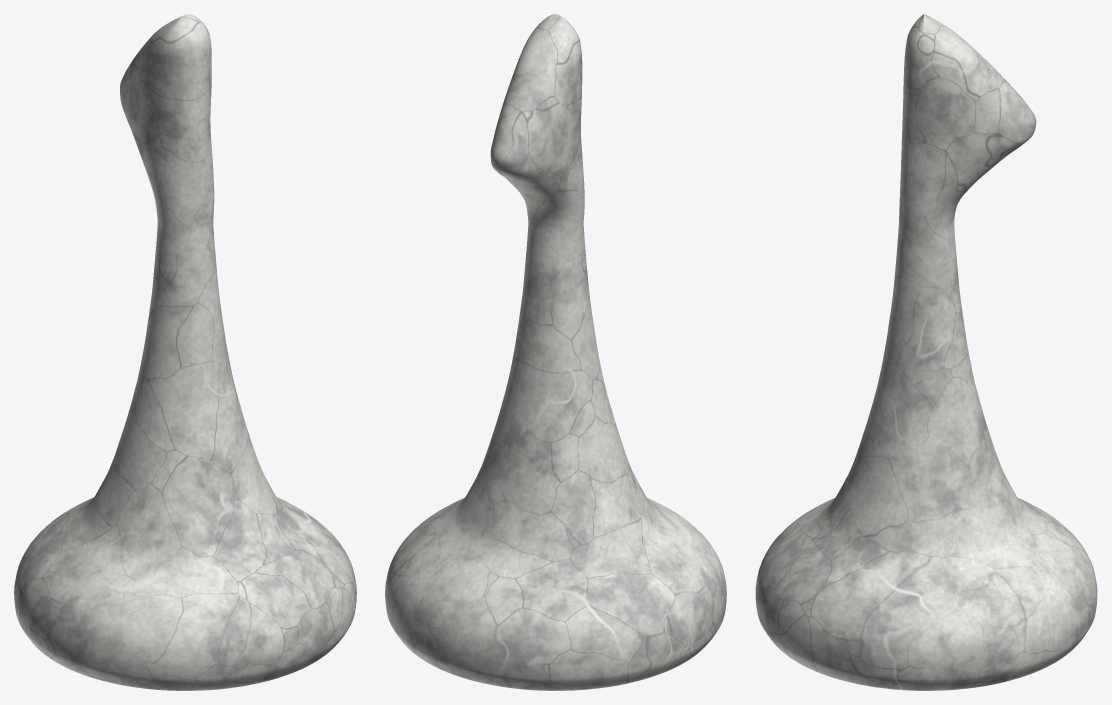
Rendered from knight-white-hd.glb.
The picture shows the model from 3 angles, left to right: view 1: azimuth 30°, elevation 25°; view 2: azimuth 150°, elevation 25°; view 3: azimuth 270°, elevation 25°; orthographic projection.
Visible parts, largest first — view 1: Serpentina_knight_white; view 2: Serpentina_knight_white; view 3: Serpentina_knight_white.
Part boxes in pixels (box(x1,y1,x2,y2)): Serpentina_knight_white: box(14, 14, 356, 690); Serpentina_knight_white: box(385, 14, 726, 690); Serpentina_knight_white: box(755, 14, 1097, 690).
Bounding box in the file's own units: 0.6902 × 1.36 × 0.6902.
Materials: 1 (1 with a texture image).
